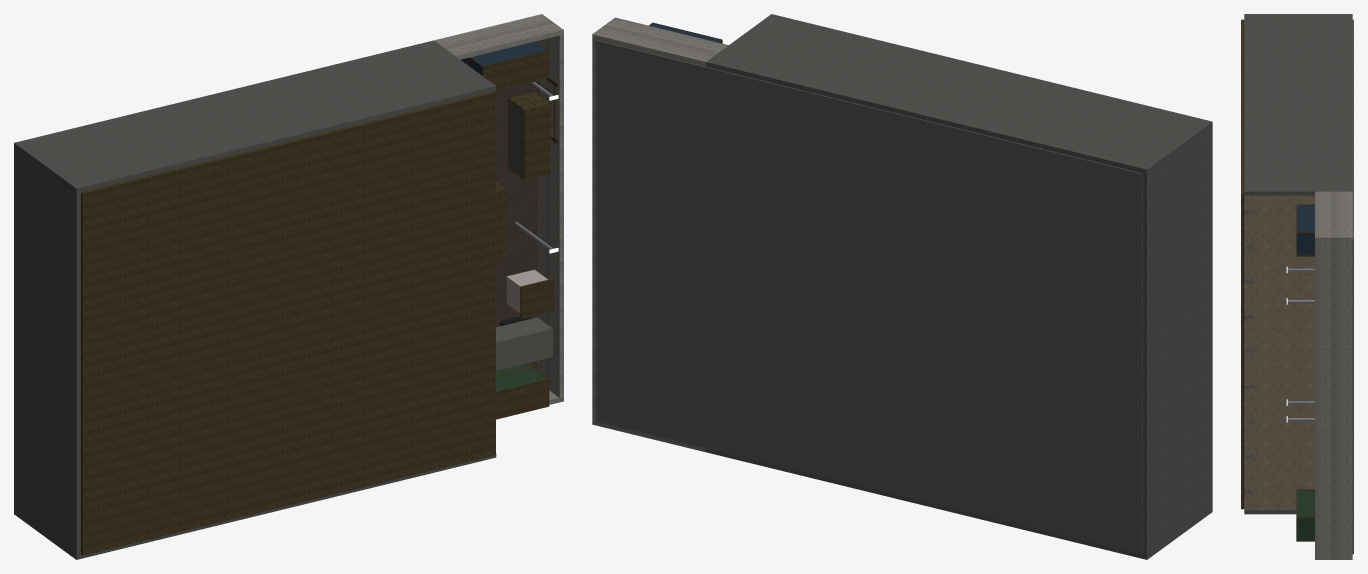
File: warehouse.glb
3 views of the same model, side by side, from view 1: azimuth 30°, elevation 25°; view 2: azimuth 150°, elevation 25°; view 3: azimuth 270°, elevation 25° (orthographic). The views are drawn at different scales.
Visible parts, largest first — view 1: warehouse_steel, warehouse_wall, warehouse_fence, warehouse_asphalt, warehouse_trailer, warehouse_cont_grey, warehouse_cont_blue, warehouse_cont_green, warehouse_plaster; view 2: warehouse_floor, warehouse_wall, warehouse_fence; view 3: warehouse_wall_in, warehouse_wall, warehouse_fence, warehouse_steel, warehouse_floor, warehouse_cont_blue, warehouse_cont_green, warehouse_truss, warehouse_grey.
Boxes of the visible parts, left/top/right/bottom form: warehouse_steel: left=81, top=41, right=558, bottom=555; warehouse_wall: left=14, top=40, right=496, bottom=559; warehouse_fence: left=434, top=14, right=563, bottom=404; warehouse_asphalt: left=495, top=41, right=537, bottom=369; warehouse_trailer: left=496, top=317, right=552, bottom=370; warehouse_cont_grey: left=509, top=101, right=548, bottom=177; warehouse_cont_blue: left=460, top=41, right=546, bottom=75; warehouse_cont_green: left=496, top=363, right=546, bottom=391; warehouse_plaster: left=506, top=269, right=547, bottom=313; warehouse_floor: left=596, top=40, right=1142, bottom=554; warehouse_wall: left=706, top=14, right=1212, bottom=559; warehouse_fence: left=592, top=17, right=728, bottom=452; warehouse_wall_in: left=1244, top=195, right=1314, bottom=509; warehouse_wall: left=1244, top=14, right=1352, bottom=514; warehouse_fence: left=1315, top=191, right=1352, bottom=559; warehouse_steel: left=1241, top=19, right=1314, bottom=541; warehouse_floor: left=1352, top=19, right=1353, bottom=554; warehouse_cont_blue: left=1297, top=205, right=1314, bottom=255; warehouse_cont_green: left=1297, top=490, right=1314, bottom=540; warehouse_truss: left=1244, top=210, right=1253, bottom=493; warehouse_grey: left=1287, top=268, right=1314, bottom=420.
Bounding box in the file's own units: 48.8 × 32.8 × 10.4.
39 materials, 15 textured.
